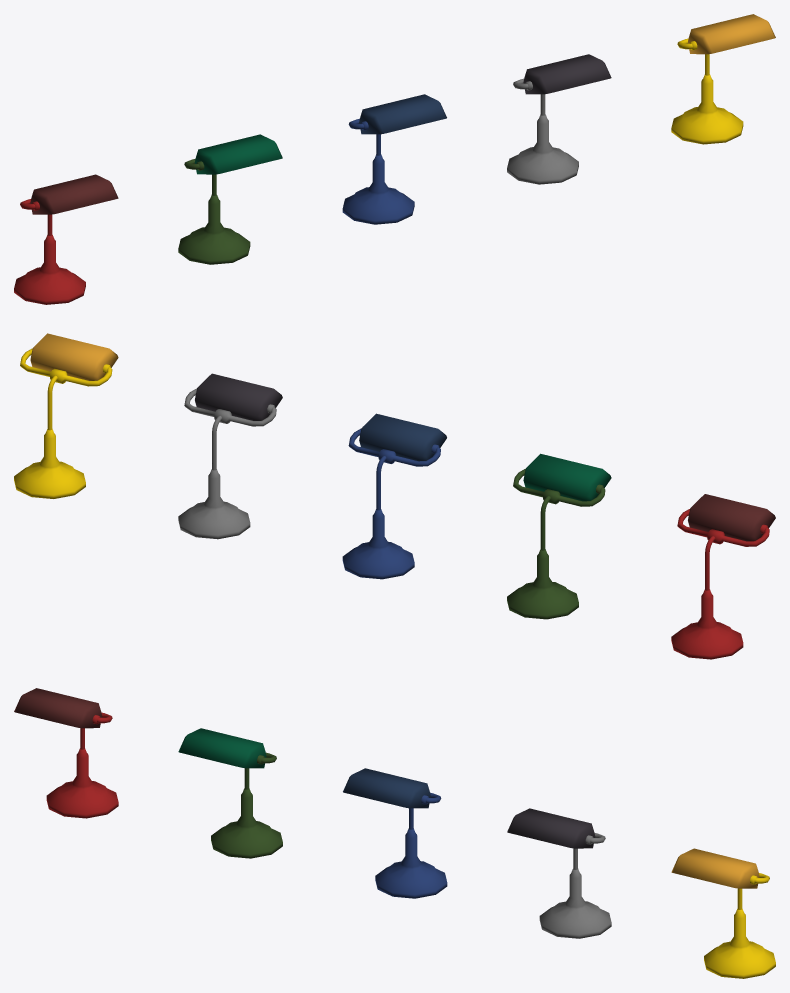
Rendered from table lamps.fbx.
The picture shows the model from 3 angles, top to bottom: view 1: azimuth 30°, elevation 25°; view 2: azimuth 150°, elevation 25°; view 3: azimuth 330°, elevation 25°; orthographic projection.
Parts seen in each view (by area): view 1: Desk Lamp Green, Desk Lamp Blue, Desk Lamp Grey, Desk Lamp Yellow, Desk Lamp Red; view 2: Desk Lamp Yellow, Desk Lamp Green, Desk Lamp Blue, Desk Lamp Grey, Desk Lamp Red; view 3: Desk Lamp Grey, Desk Lamp Blue, Desk Lamp Red, Desk Lamp Green, Desk Lamp Yellow.
Part boxes in pixels (x1=…): Desk Lamp Green: x1=178, y1=134, x2=282, y2=264; Desk Lamp Blue: x1=342, y1=94, x2=446, y2=224; Desk Lamp Grey: x1=507, y1=54, x2=611, y2=184; Desk Lamp Yellow: x1=671, y1=14, x2=775, y2=144; Desk Lamp Red: x1=14, y1=174, x2=118, y2=304; Desk Lamp Yellow: x1=14, y1=333, x2=118, y2=498; Desk Lamp Green: x1=507, y1=453, x2=611, y2=619; Desk Lamp Blue: x1=342, y1=413, x2=446, y2=579; Desk Lamp Grey: x1=178, y1=373, x2=282, y2=539; Desk Lamp Red: x1=671, y1=494, x2=775, y2=659; Desk Lamp Grey: x1=507, y1=808, x2=611, y2=938; Desk Lamp Blue: x1=343, y1=768, x2=447, y2=898; Desk Lamp Red: x1=14, y1=688, x2=118, y2=818; Desk Lamp Green: x1=178, y1=728, x2=282, y2=858; Desk Lamp Yellow: x1=671, y1=848, x2=775, y2=978.
Bounding box in the file's own units: 4.53 × 0.7083 × 0.578.
